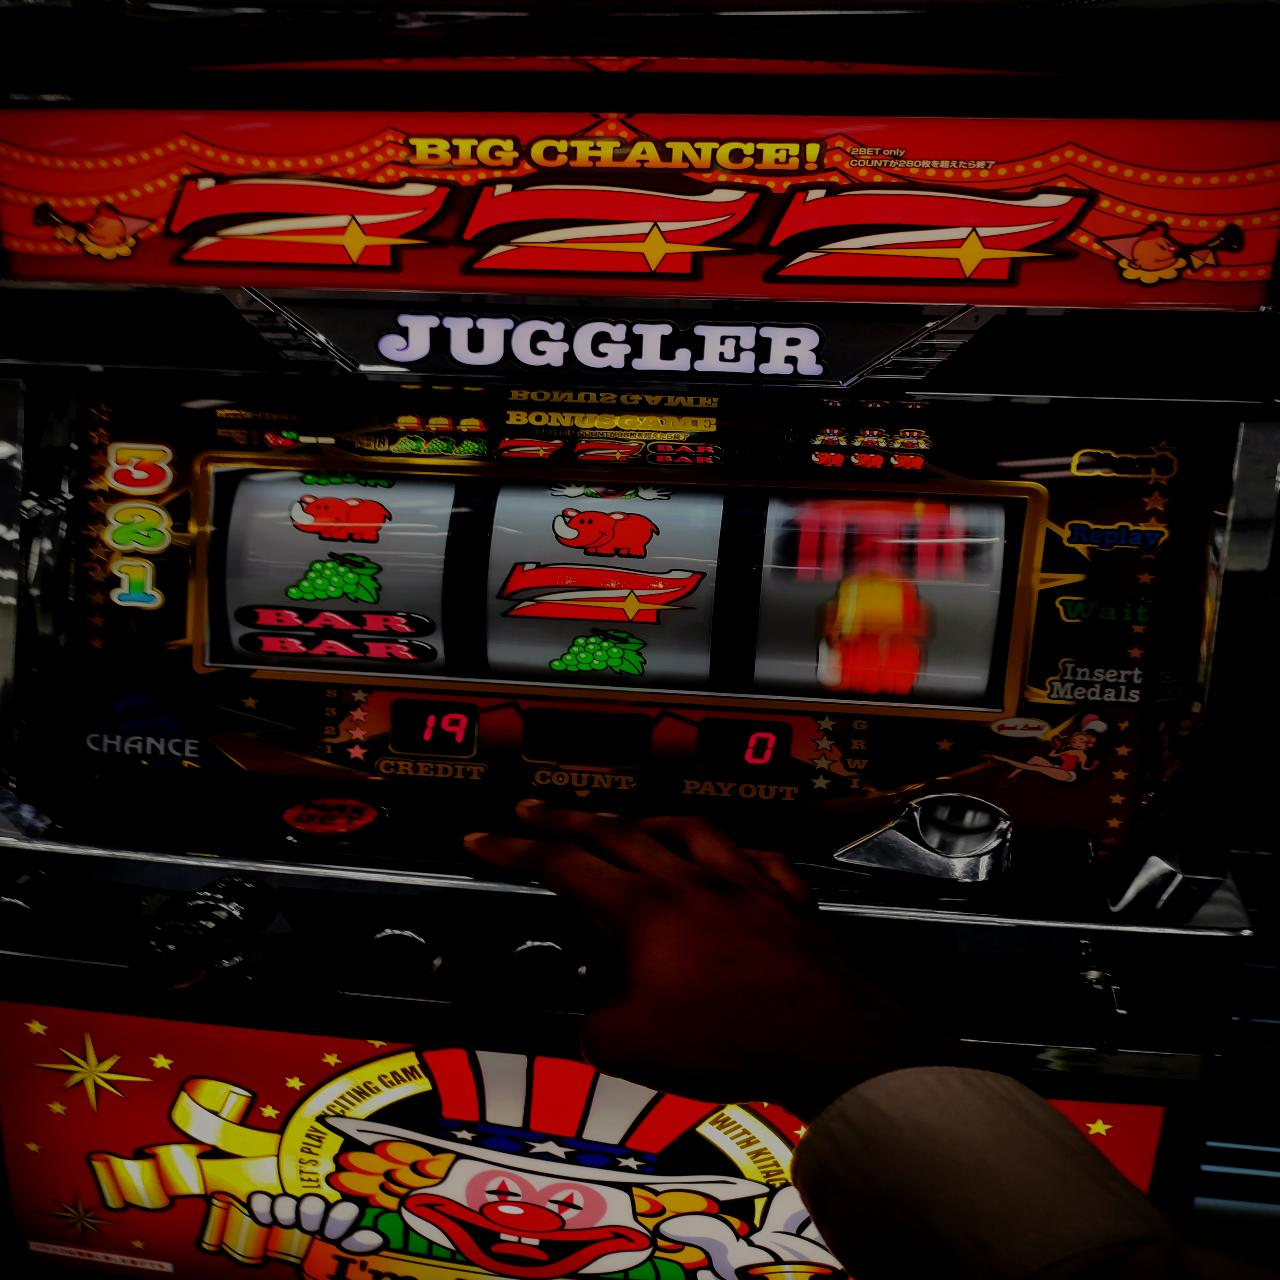7: (502, 560, 703, 627)
8: (546, 506, 662, 559), (286, 493, 395, 544)
bar: (232, 606, 438, 666)
grape: (288, 550, 383, 604), (550, 628, 651, 676)
rhino: (198, 451, 1010, 715)
